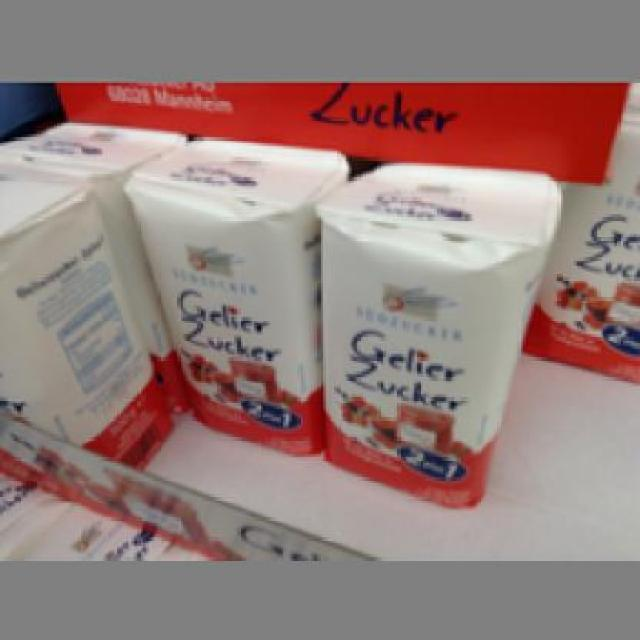Sugar: (312, 160, 554, 509), (120, 134, 343, 457), (0, 164, 172, 478)
